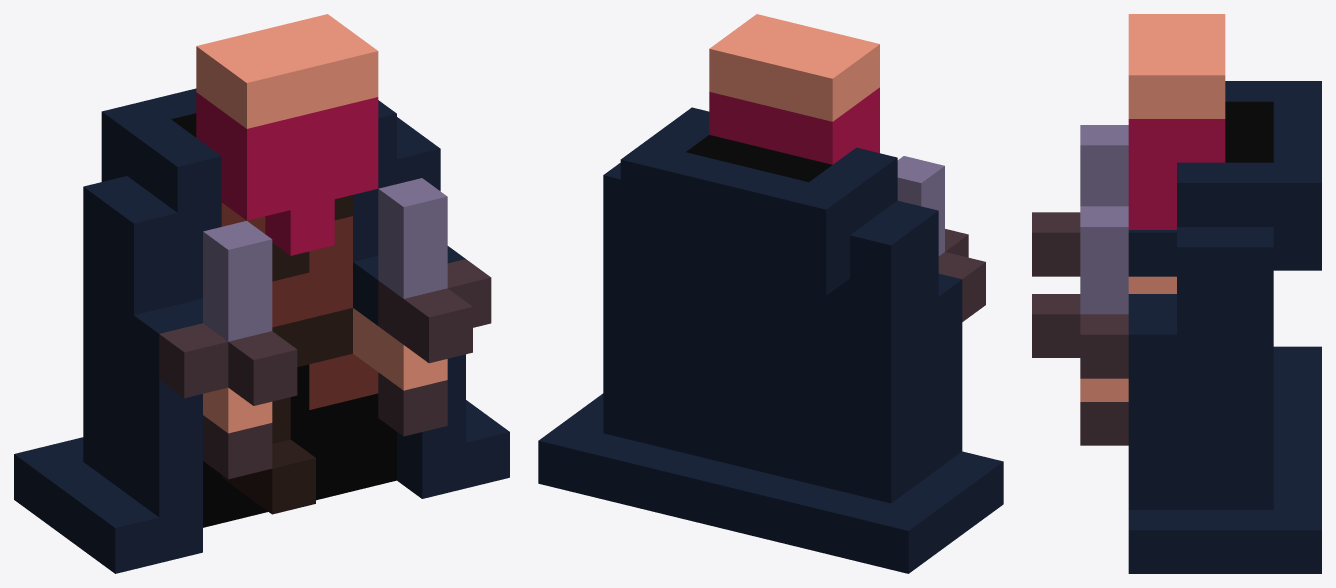
File: rogue_walk_3.obj
3 views of the same model, side by side, from view 1: azimuth 30°, elevation 25°; view 2: azimuth 150°, elevation 25°; view 3: azimuth 270°, elevation 25° (orthographic). The views are drawn at different scales.
Size of the model in its own units: 0.9 by 1 by 0.6.
Materials: 1 (1 with a texture image).
